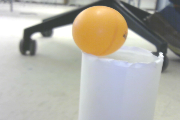PingPongBall: (73, 6, 128, 55)
